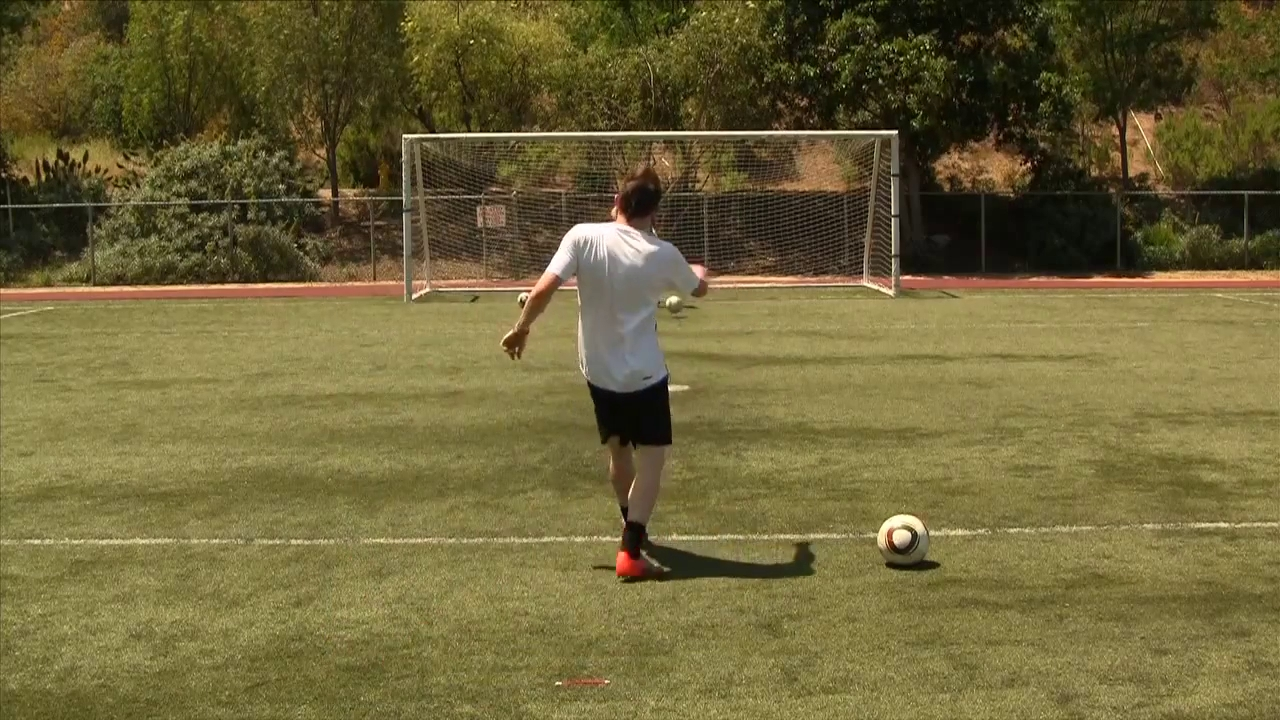person: (499, 164, 710, 582)
